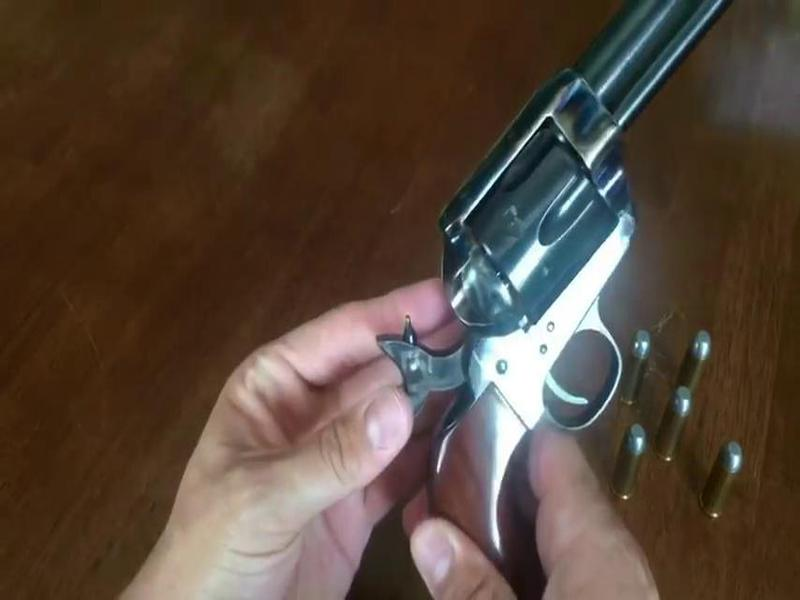Revolver: (381, 6, 674, 484)
